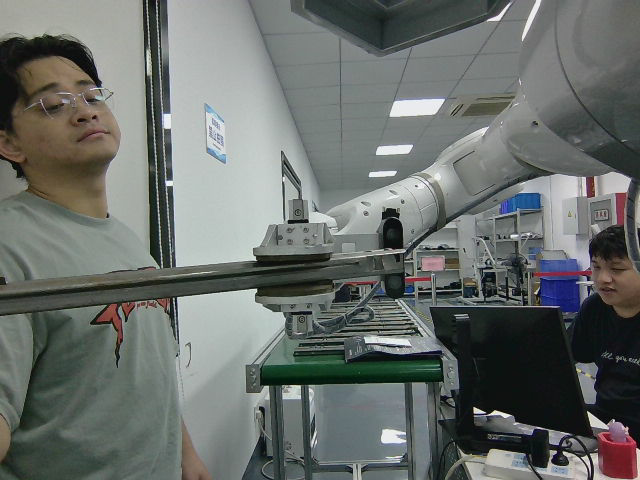up: (3, 243, 407, 315)
